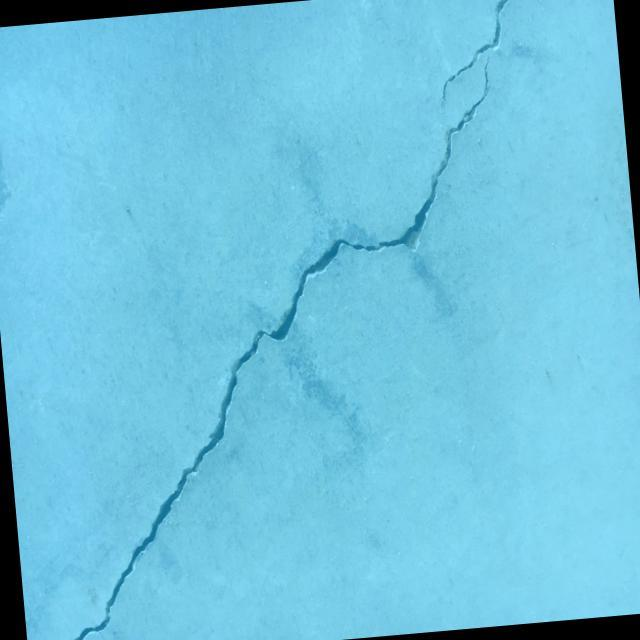crack: (6, 55, 539, 640), (430, 0, 532, 113)
